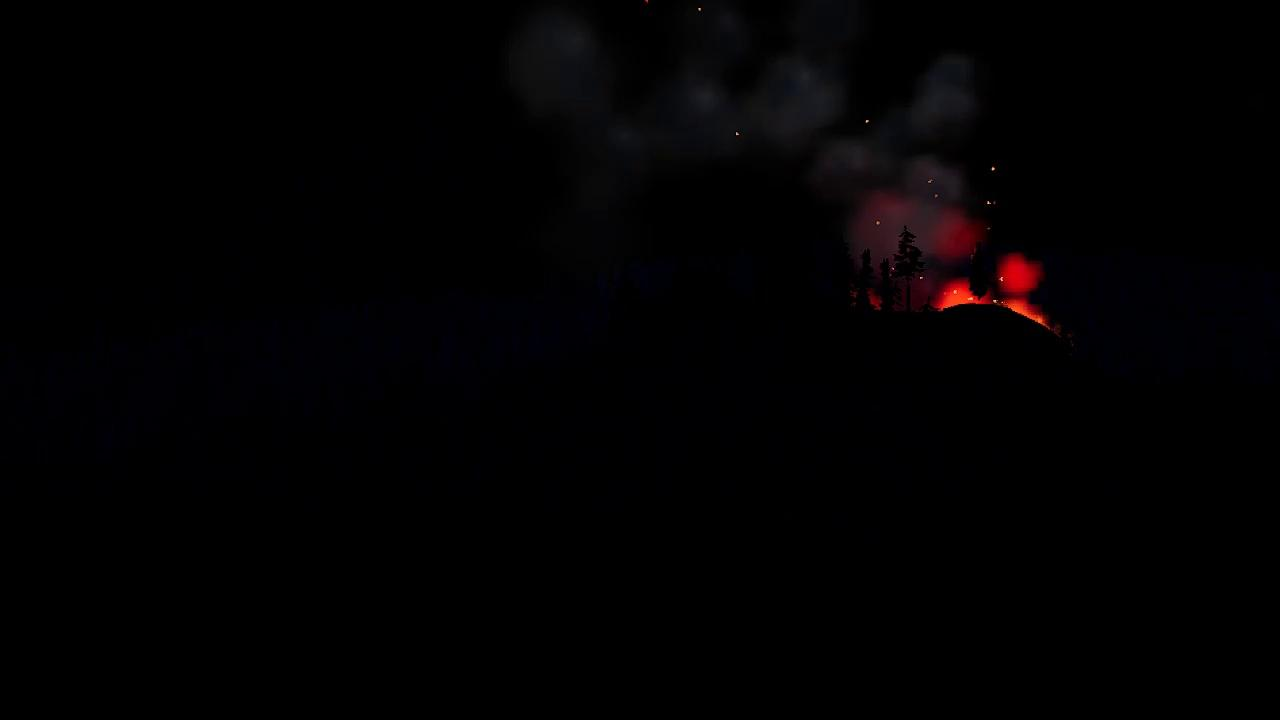fire: (933, 254, 1054, 338)
smoke: (507, 2, 1016, 292)
